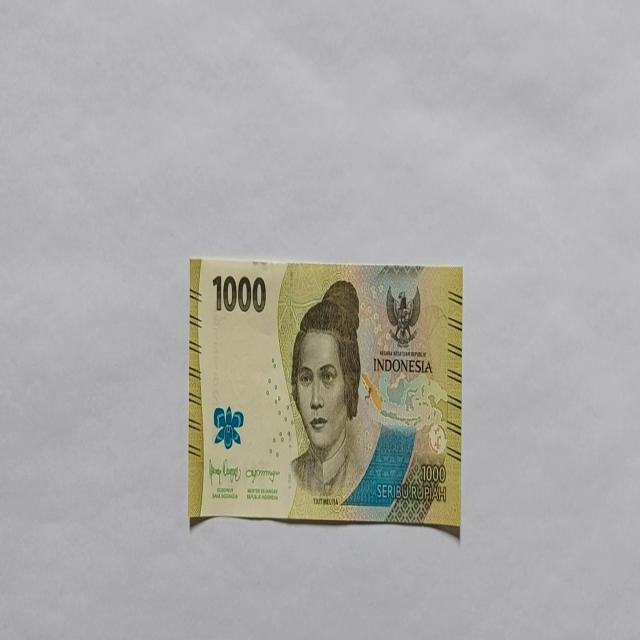seribu rupiah kertas: (188, 256, 462, 534)
